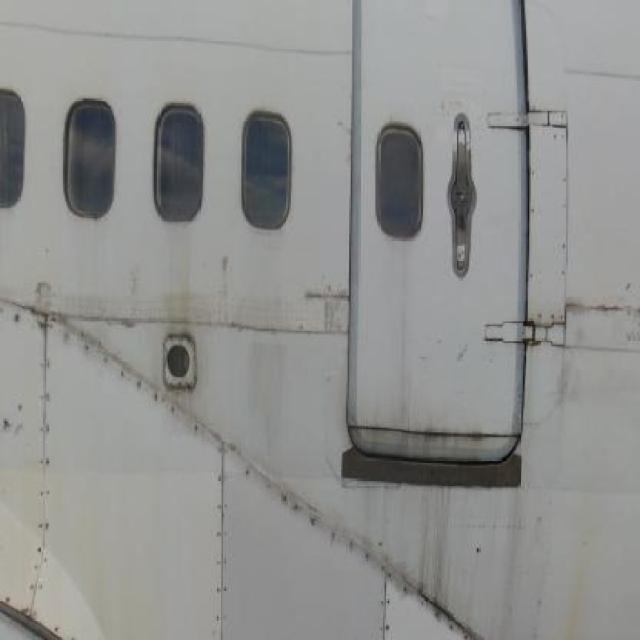Missing-Rivet: (4, 289, 64, 628), (62, 308, 200, 434), (251, 452, 378, 576), (527, 77, 573, 354), (198, 417, 245, 637), (400, 574, 474, 638), (372, 520, 401, 640)
Scartch: (302, 271, 356, 332)
